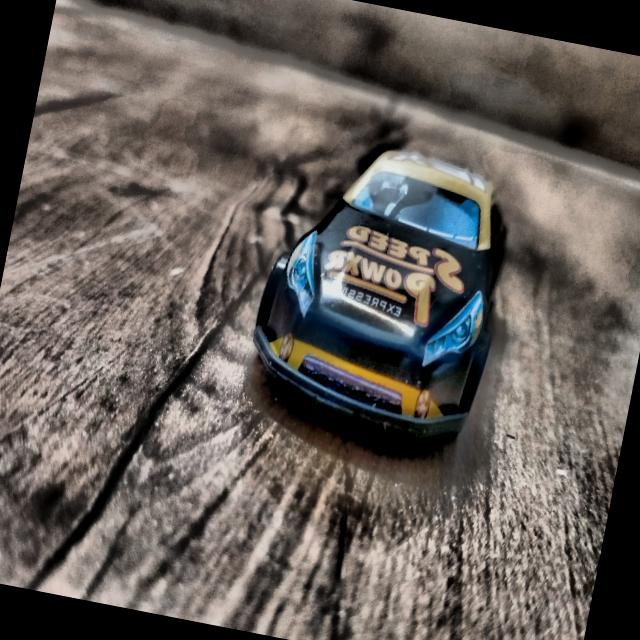Car: (227, 122, 530, 450)
